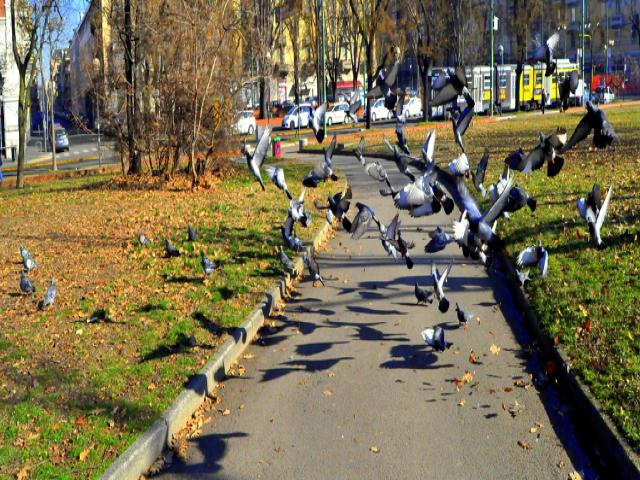Bird: (297, 54, 537, 320), (558, 98, 620, 161), (364, 54, 404, 114), (582, 183, 613, 259), (524, 131, 568, 180), (237, 131, 267, 196), (576, 178, 604, 237), (514, 236, 550, 276), (424, 322, 455, 364), (504, 148, 548, 177), (264, 162, 292, 200), (308, 102, 330, 144), (40, 267, 59, 308), (200, 245, 222, 276), (21, 266, 37, 299), (277, 240, 294, 270), (455, 302, 472, 332), (353, 130, 366, 164), (185, 221, 204, 243), (166, 237, 182, 259), (23, 256, 37, 276), (21, 240, 32, 262)
